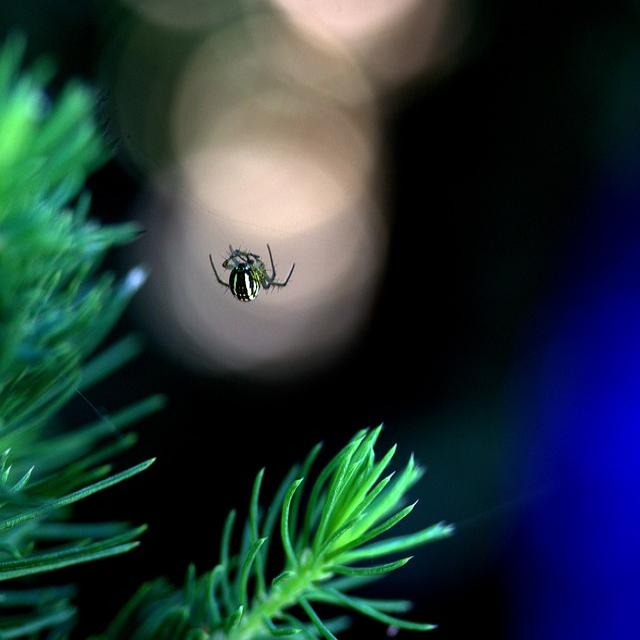spyder: (203, 243, 297, 306)
